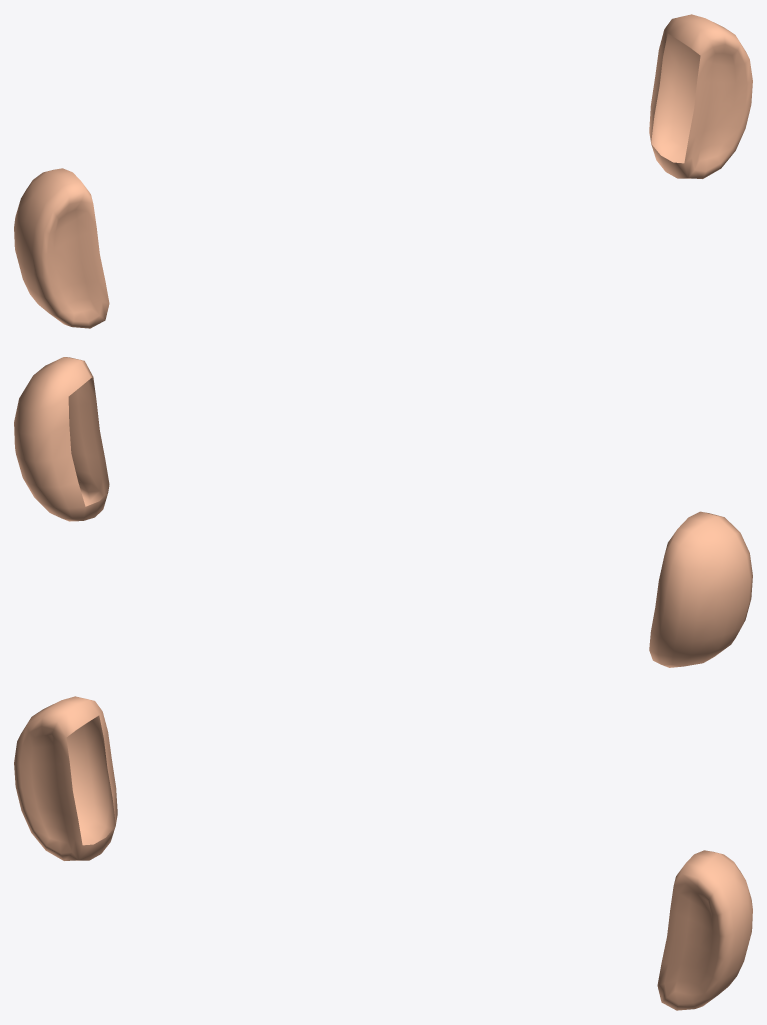
The model's file is Ears_09.glb.
3 renders of one model, top to bottom at view 1: azimuth 30°, elevation 25°; view 2: azimuth 150°, elevation 25°; view 3: azimuth 330°, elevation 25°, orthographic.
Parts seen in each view (by area): view 1: Ears_09; view 2: Ears_09; view 3: Ears_09.
Part boxes in pixels (x1,y1,x2,y2): Ears_09: [14, 14, 752, 328]; Ears_09: [14, 357, 752, 667]; Ears_09: [14, 696, 752, 1010].
Bounding box in the file's own units: 0.6554 × 0.1295 × 0.076.
Materials: 1 (1 with a texture image).
